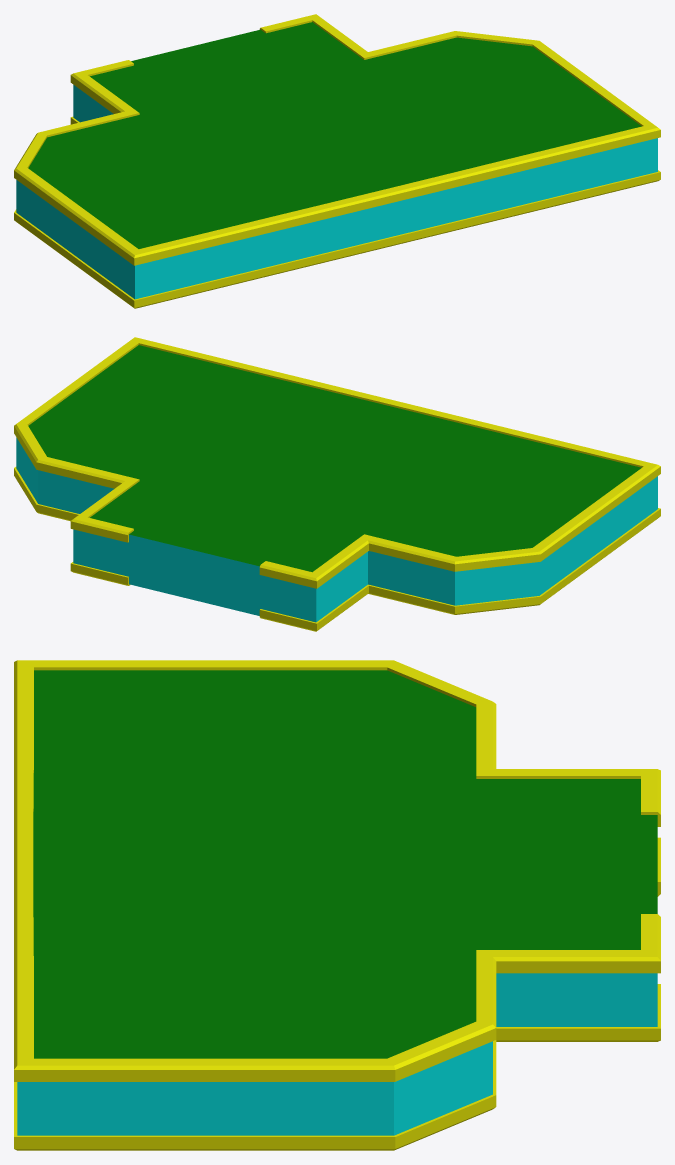
3 views of the same model, one above another, from view 1: azimuth 30°, elevation 25°; view 2: azimuth 150°, elevation 25°; view 3: azimuth 270°, elevation 25° (orthographic). The views are drawn at different scales.
Parts seen in each view (by area): view 1: polySurface211, polySurface208, polySurface212; view 2: polySurface211, polySurface212, polySurface208; view 3: polySurface211, polySurface208, polySurface212.
Part boxes in pixels (left/top/right/bottom): polySurface211: left=28, top=22, right=641, bottom=248; polySurface208: left=14, top=14, right=660, bottom=308; polySurface212: left=16, top=85, right=657, bottom=299; polySurface211: left=28, top=345, right=641, bottom=572; polySurface212: left=16, top=437, right=657, bottom=622; polySurface208: left=14, top=337, right=660, bottom=631; polySurface211: left=33, top=670, right=657, bottom=1058; polySurface208: left=14, top=660, right=660, bottom=1150; polySurface212: left=17, top=973, right=657, bottom=1135.
Bounding box in the file's own units: 2919 × 284 × 1956.
